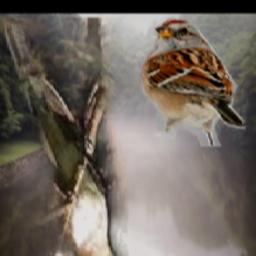Cuckoo: (2, 18, 129, 256)
Sparrow: (140, 19, 247, 148)
